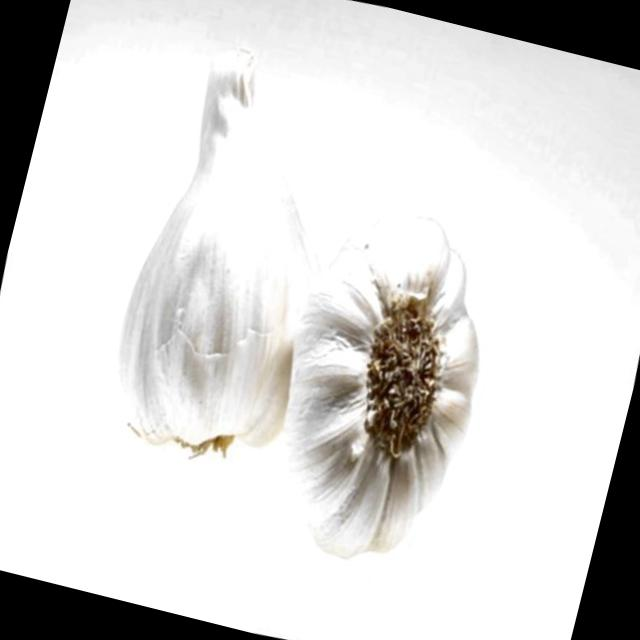garlic: (119, 50, 310, 454), (285, 218, 478, 556)
